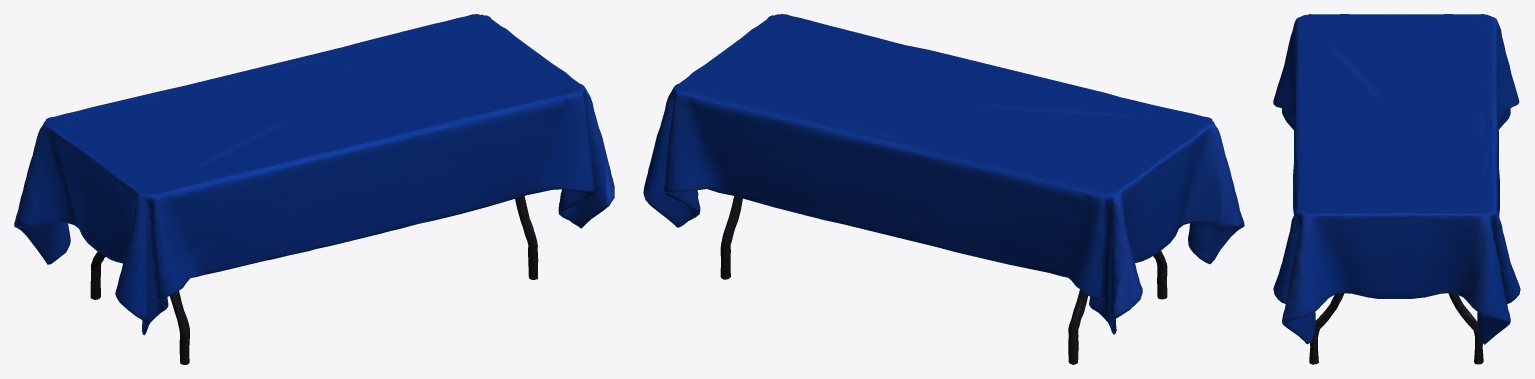
The model's file is BNQ_TBL_RYL_BLUE_HALF_0630193842_texture.glb.
The picture shows the model from 3 angles, left to right: view 1: azimuth 30°, elevation 25°; view 2: azimuth 150°, elevation 25°; view 3: azimuth 270°, elevation 25°; orthographic projection. The views are drawn at different scales.
Parts seen in each view (by area): view 1: Mesh_0.001; view 2: Mesh_0.001; view 3: Mesh_0.001.
Part boxes in pixels (bbox=[...]): Mesh_0.001: bbox=[14, 14, 614, 364]; Mesh_0.001: bbox=[643, 14, 1244, 364]; Mesh_0.001: bbox=[1273, 14, 1520, 364].
Bounding box in the file's own units: 2.13 × 0.762 × 0.9985.
Materials: 1 (1 with a texture image).
